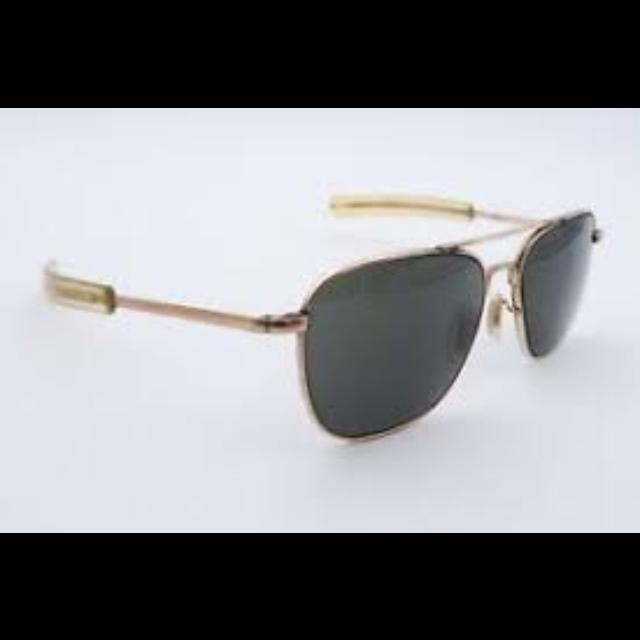sunglasses: (42, 188, 608, 440)
